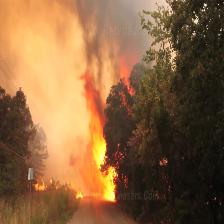fire: (65, 59, 154, 219)
